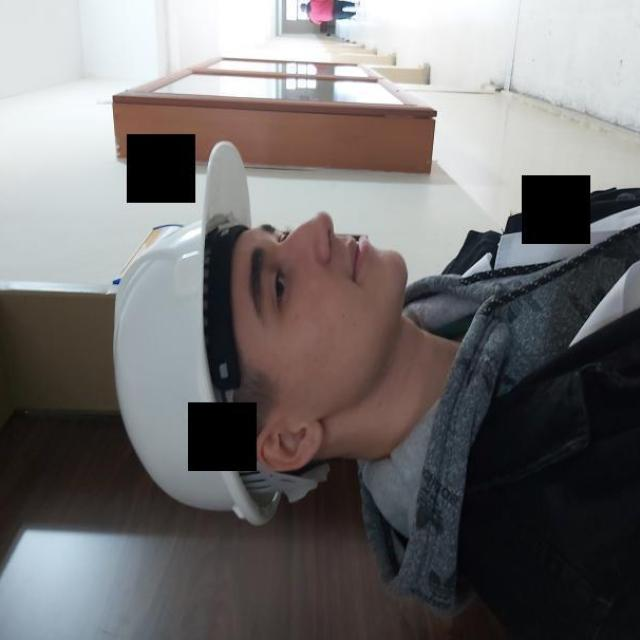helmet: (120, 114, 278, 544)
